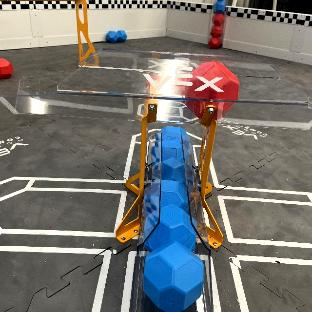Goal: (12, 49, 312, 152)
V5_BLUE: (143, 242, 202, 308), (143, 180, 189, 238), (146, 205, 195, 249), (151, 127, 189, 181)
V5_RED: (185, 60, 237, 117), (0, 58, 13, 78)
